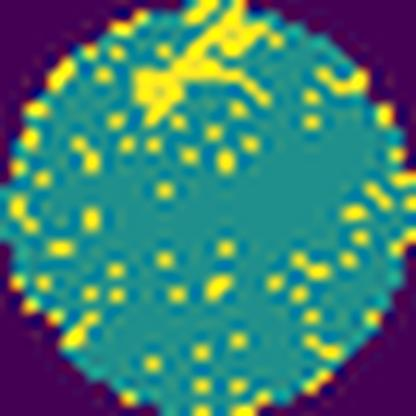Loc: (134, 14, 276, 127)
